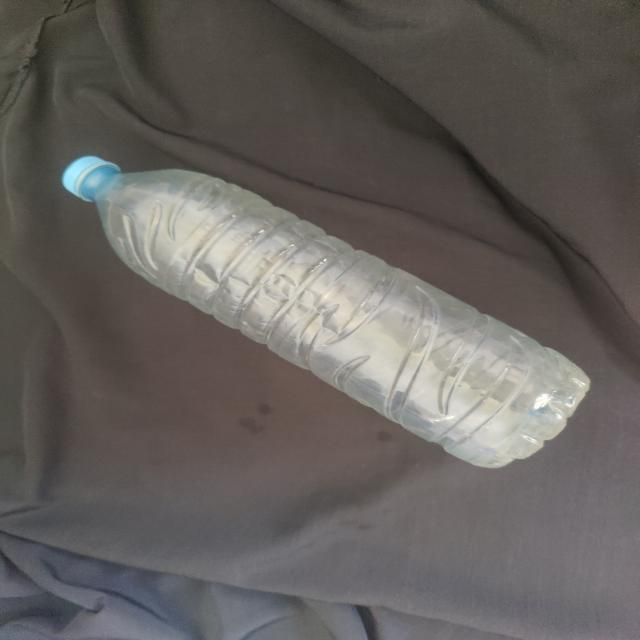plastic: (59, 150, 589, 470)
